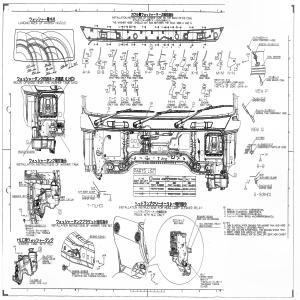PartNumber: (25, 224, 42, 227), (18, 150, 34, 153), (258, 43, 274, 46), (72, 270, 88, 272), (151, 188, 164, 190), (199, 225, 212, 227), (183, 188, 195, 190), (201, 276, 213, 278)
